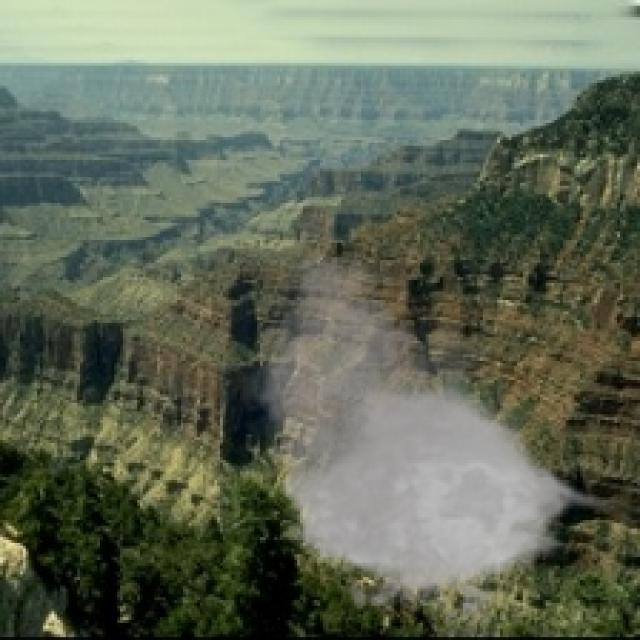Smoke: (240, 248, 623, 638)
